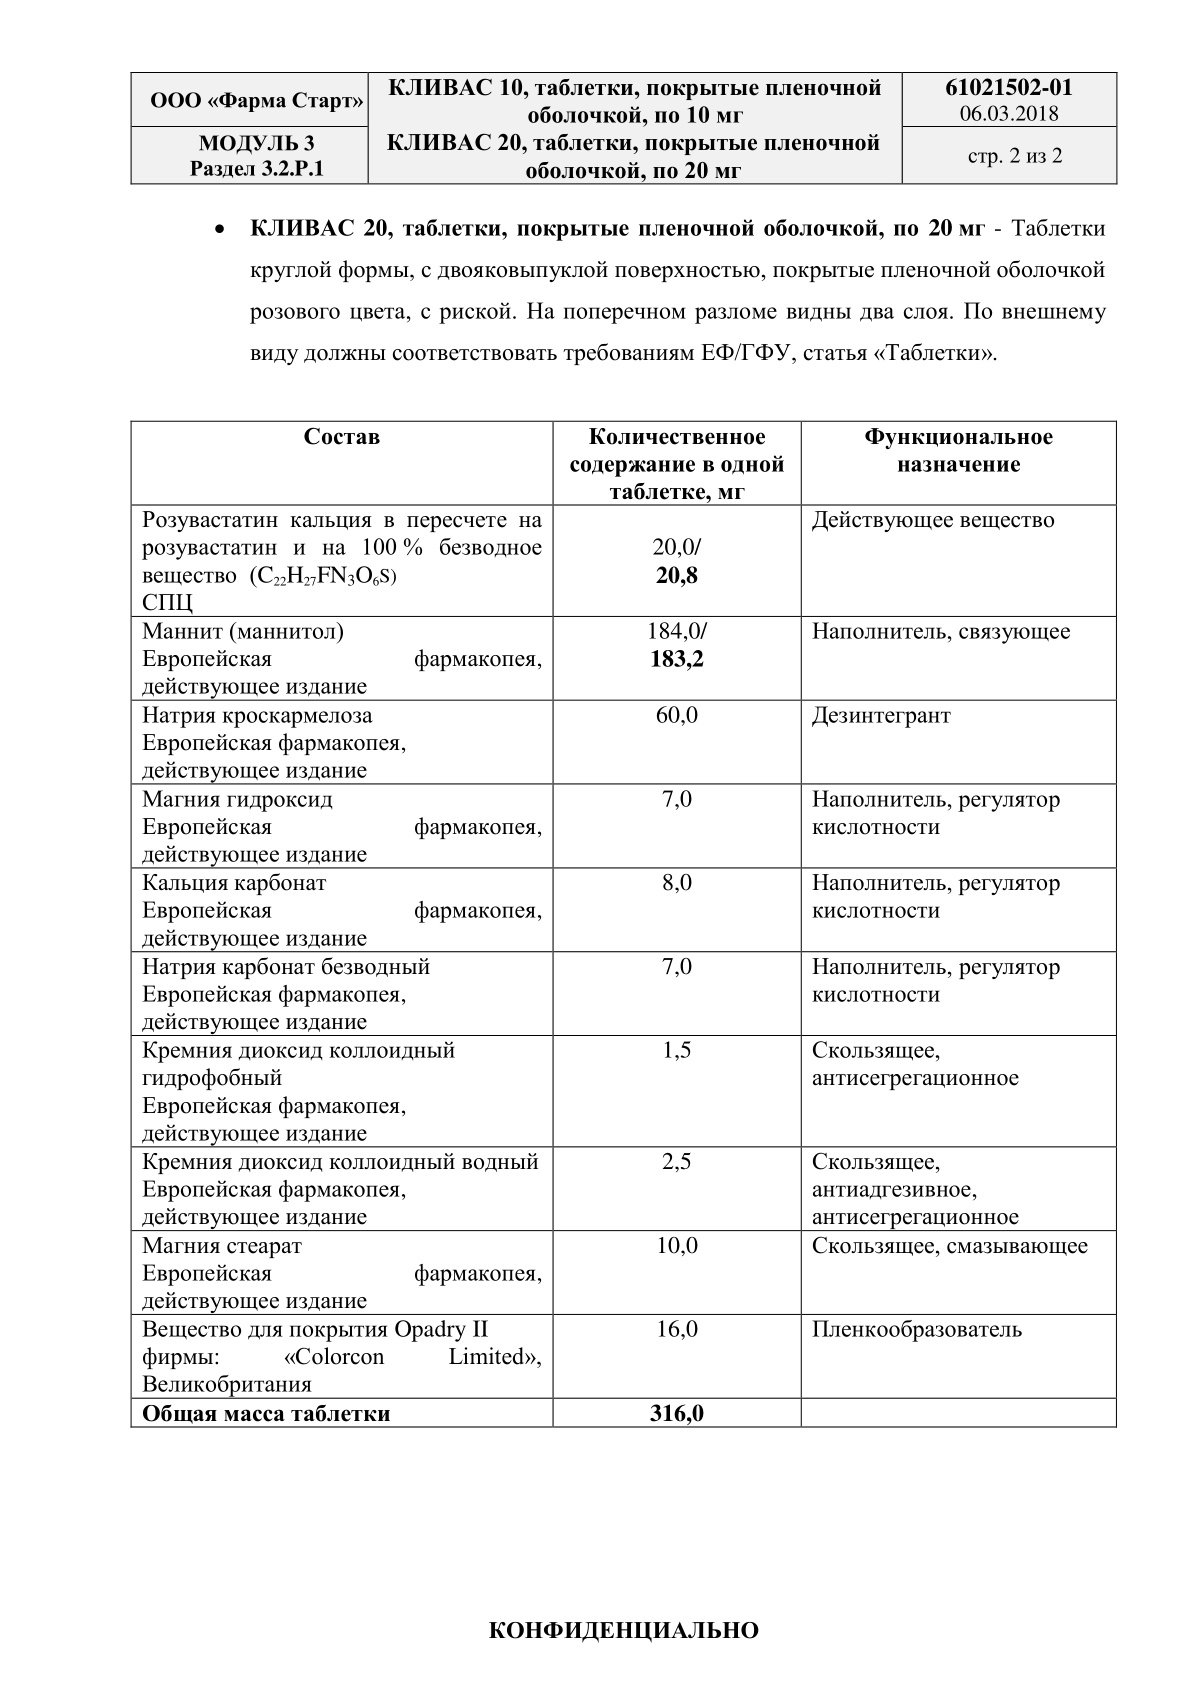full_lined: (129, 419, 1118, 1428)
merged_cells: (130, 70, 1119, 186)
